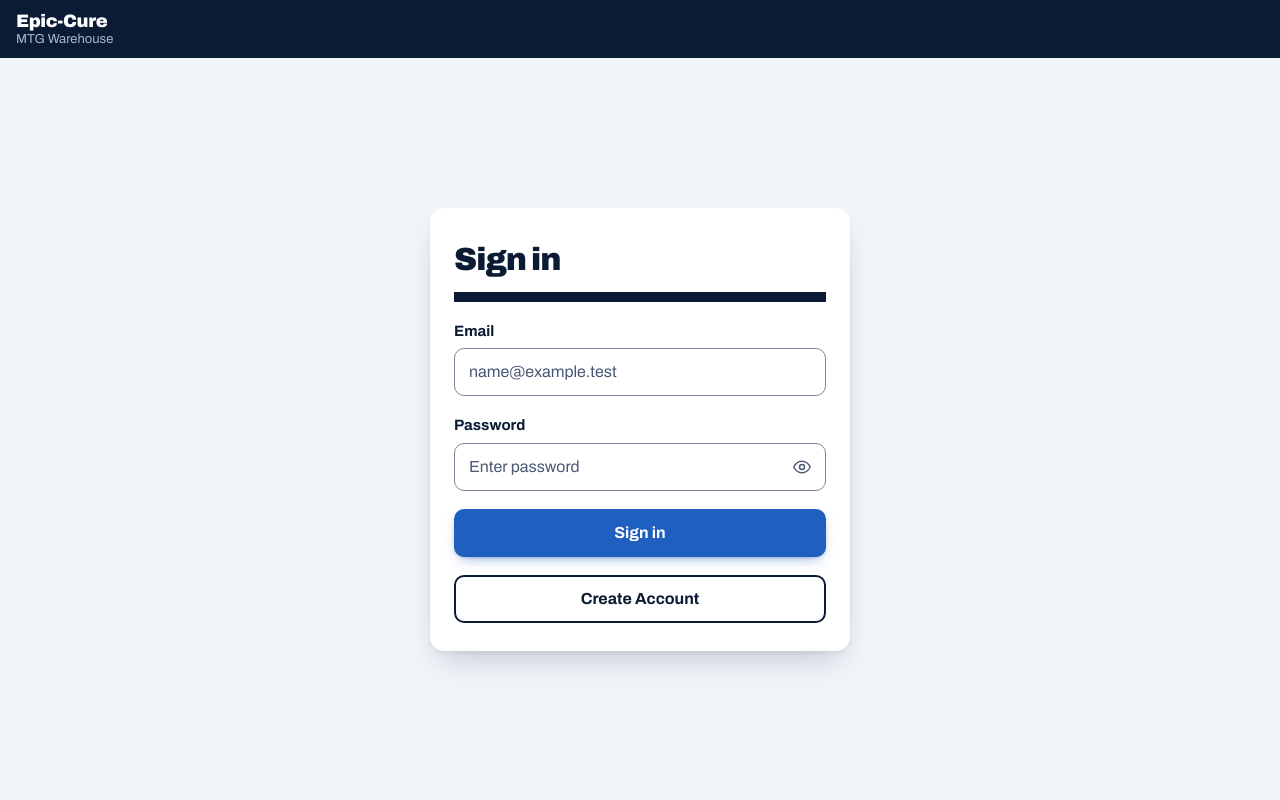
Scenario: shows friendly messages for invalid and inactive accounts
Type "x@example.test" into the field labelled "Email" at (640, 372), box [454,348,826,396]
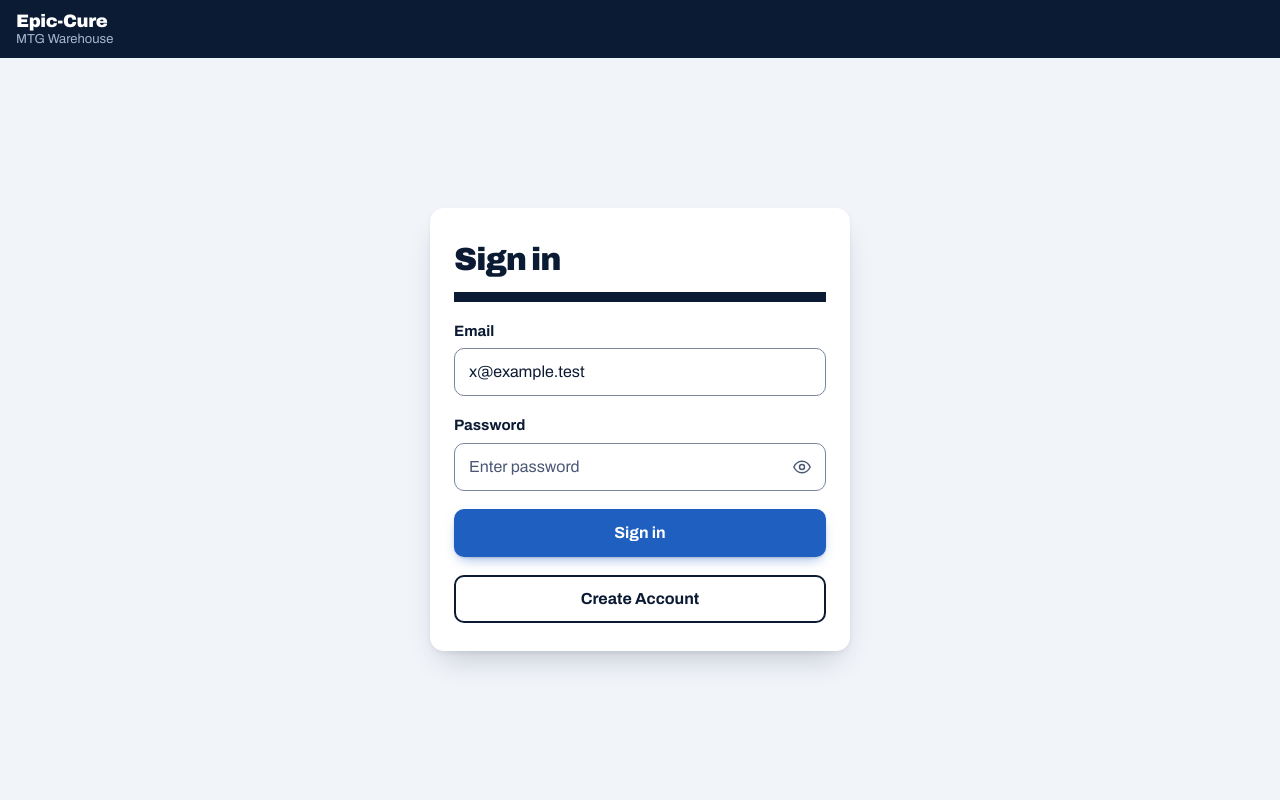
Type "bad" into the password field labelled "Password" at (640, 466), box [454,442,826,490]
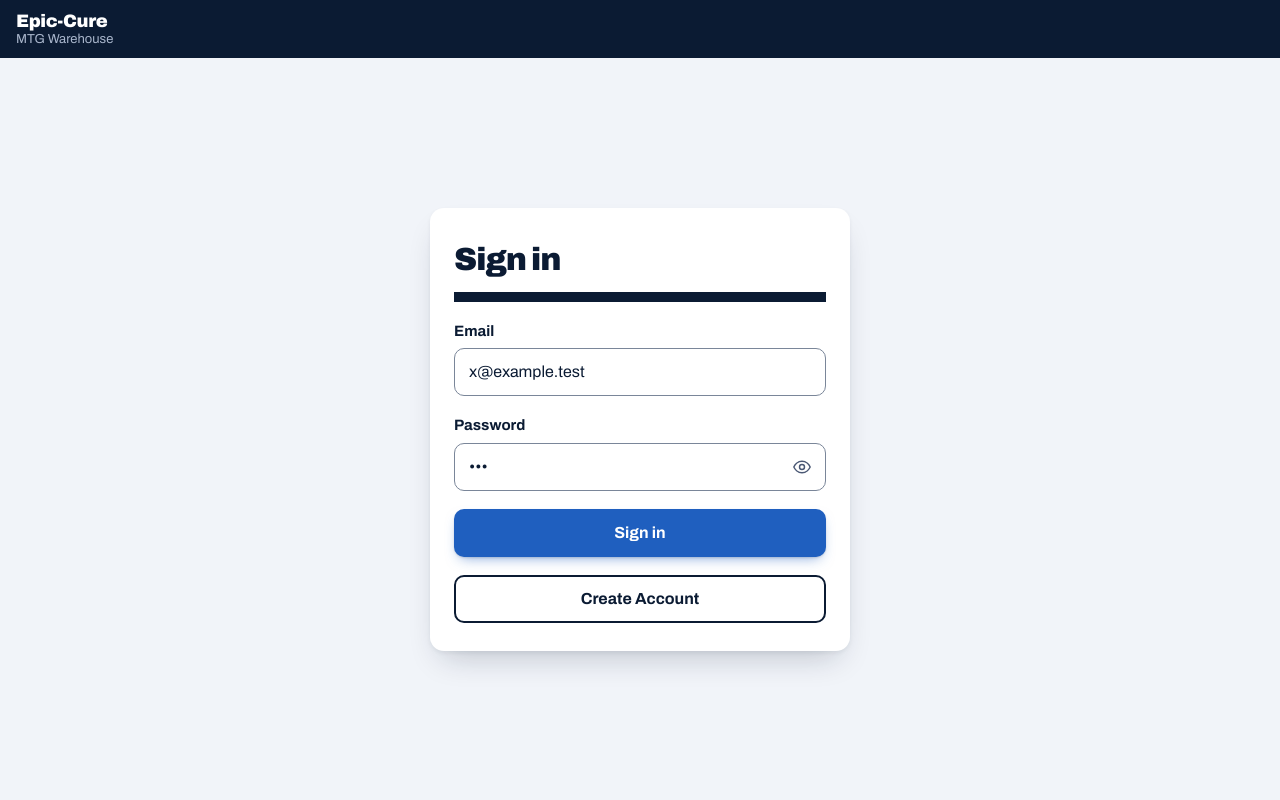
Click the button "Sign in" at (640, 532), box [454,508,826,556]
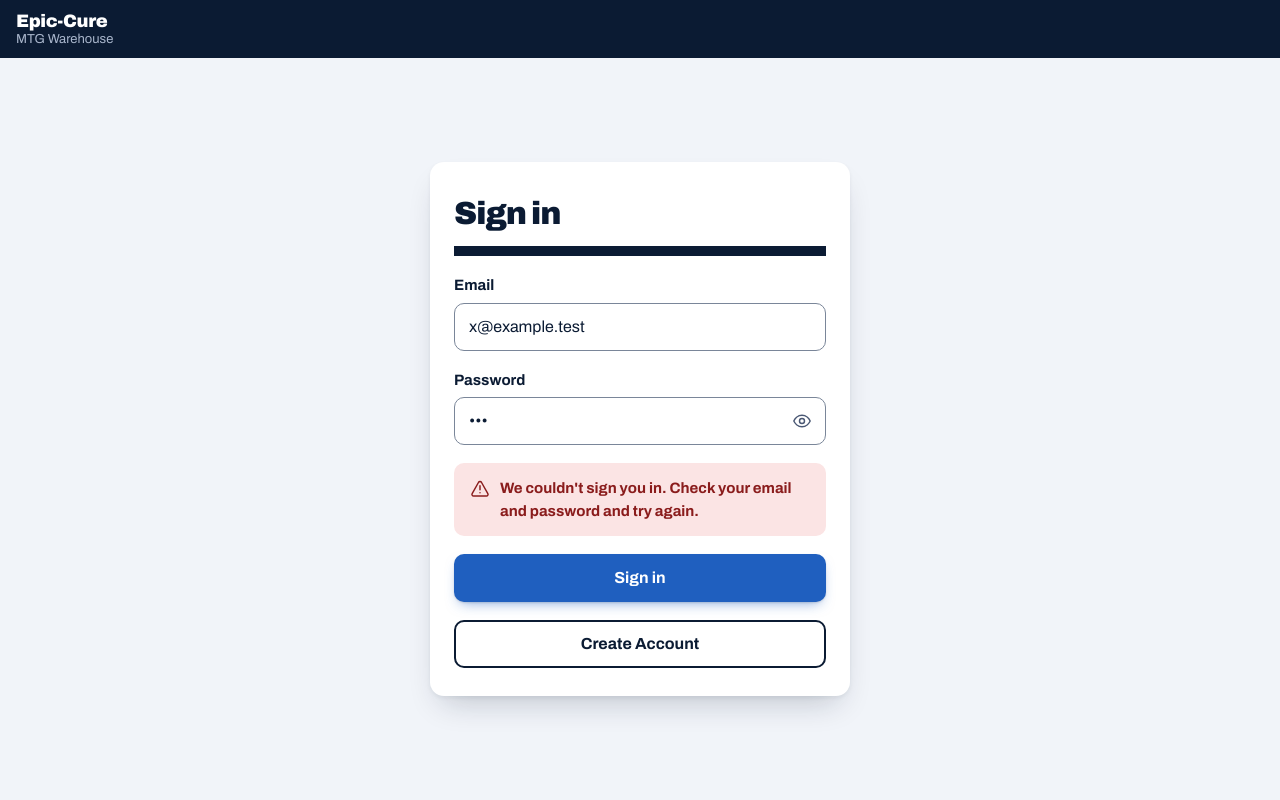
Result: the text "We couldn't sign you in. Check your email and password and try again." is shown at [454,463,826,536]
Click the button "Sign in" at (640, 578), box [454,554,826,602]
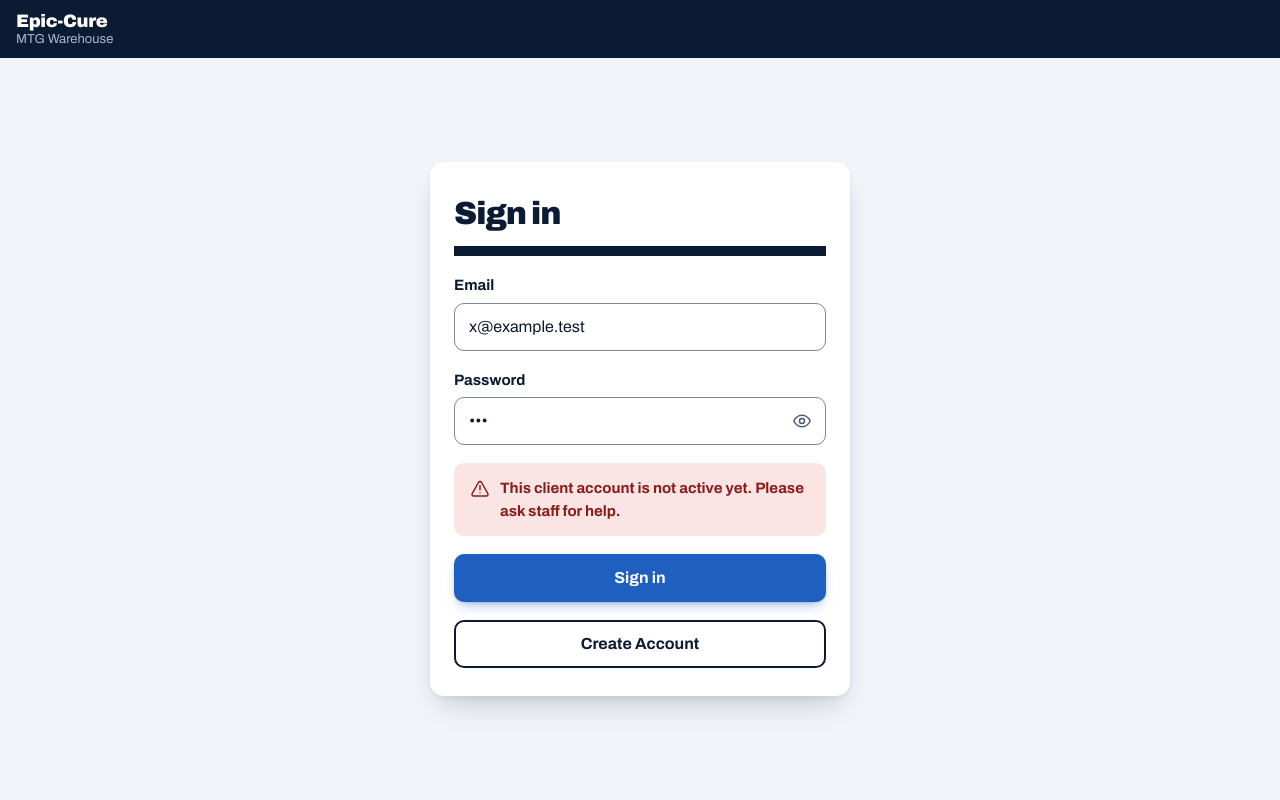
Result: the text "This client account is not active yet. Please ask staff for help." is shown at [454,463,826,536]
